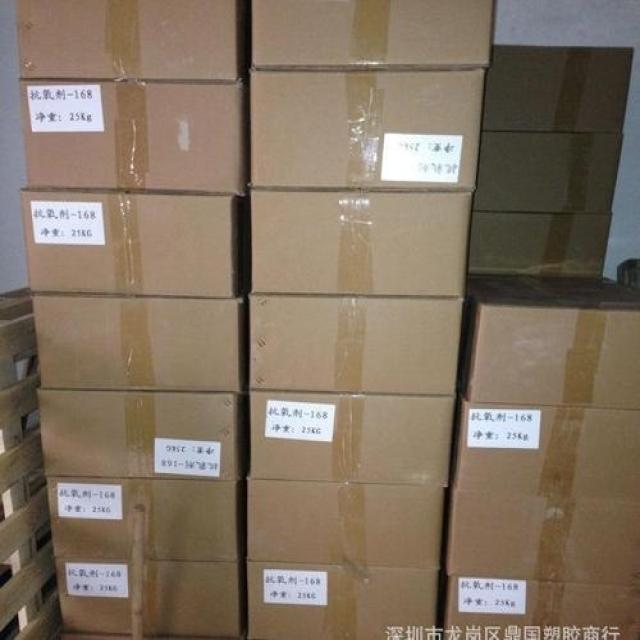box: (443, 398, 639, 586), (247, 70, 489, 192), (18, 79, 247, 198), (247, 189, 475, 299), (20, 189, 248, 298), (460, 275, 639, 409), (31, 287, 248, 394), (244, 294, 466, 397), (242, 388, 460, 488), (13, 0, 247, 85), (242, 479, 449, 572), (37, 390, 243, 479), (247, 0, 497, 70), (45, 476, 244, 562), (242, 559, 443, 639), (54, 559, 243, 639), (481, 43, 635, 134), (438, 575, 639, 639), (474, 131, 625, 214), (467, 211, 613, 278), (617, 257, 639, 299)
